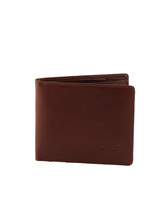other: (28, 70, 140, 171)
